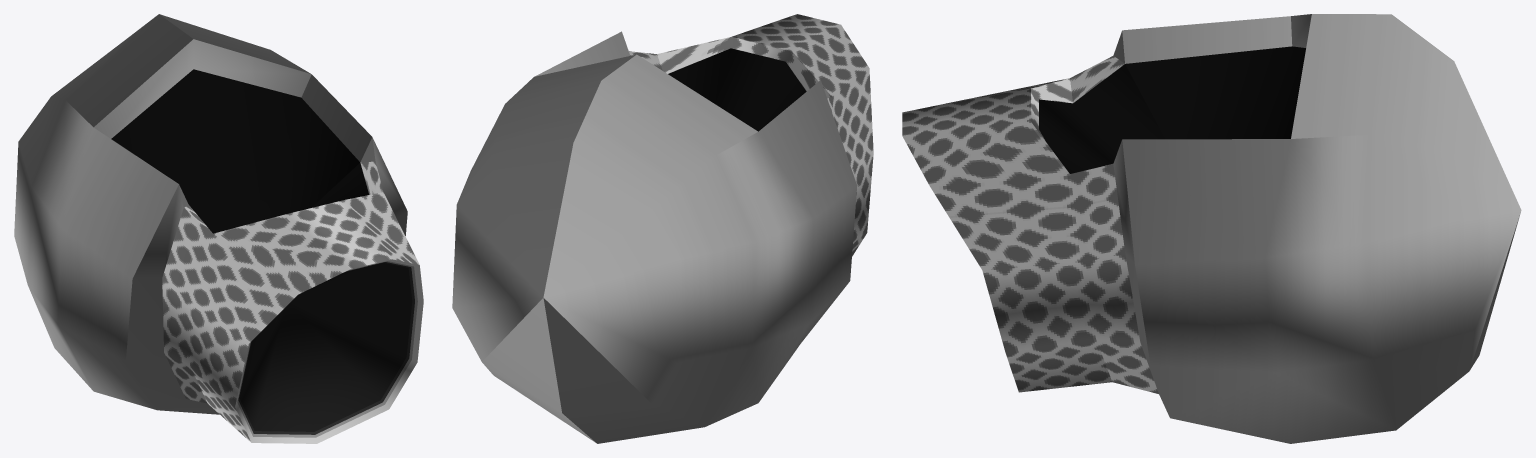
Rendered from SkullCap.glb.
3 views of the same model, side by side, from view 1: azimuth 30°, elevation 25°; view 2: azimuth 150°, elevation 25°; view 3: azimuth 270°, elevation 25° (orthographic). The views are drawn at different scales.
Visible parts, largest first — view 1: SkullCap, SkullCap_ChainCoif; view 2: SkullCap, SkullCap_ChainCoif; view 3: SkullCap, SkullCap_ChainCoif.
Boxes of the visible parts, box(x1,y1,x2,y2) form: SkullCap: box(14, 14, 407, 414); SkullCap_ChainCoif: box(162, 161, 423, 443); SkullCap: box(452, 31, 857, 443); SkullCap_ChainCoif: box(629, 14, 873, 256); SkullCap: box(1113, 14, 1521, 443); SkullCap_ChainCoif: box(902, 55, 1164, 393).
Bounding box in the file's own units: 0.272 × 0.308 × 0.4156.
Materials: 1 (1 with a texture image).
